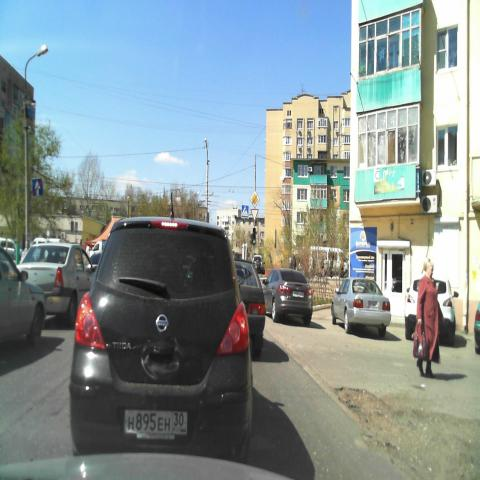5_6: (32, 177, 43, 196)
